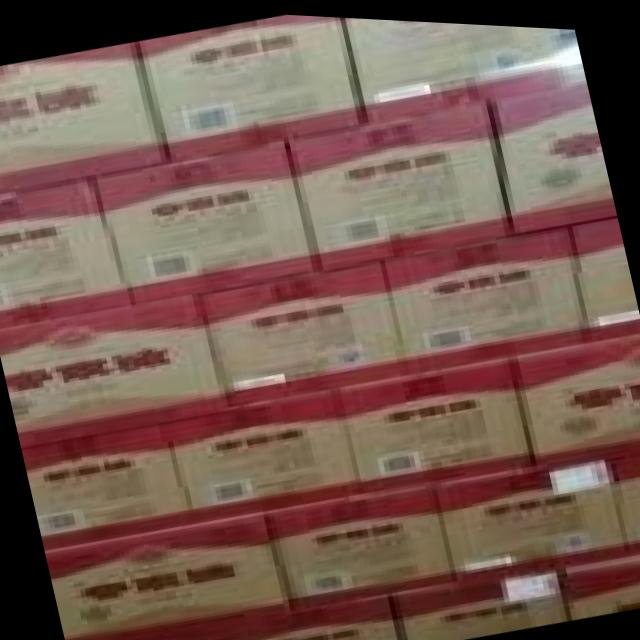box: (91, 137, 317, 304), (293, 98, 507, 271), (133, 12, 363, 160), (0, 291, 223, 443), (382, 218, 590, 372), (52, 507, 292, 640), (200, 255, 404, 406), (337, 354, 528, 493), (338, 14, 580, 121), (162, 387, 355, 519), (260, 476, 454, 605), (0, 42, 161, 191), (438, 452, 624, 577), (25, 420, 191, 549), (487, 79, 617, 230), (0, 179, 127, 325), (512, 330, 640, 461), (391, 562, 571, 640), (230, 589, 408, 640), (571, 211, 640, 337), (563, 546, 640, 611), (104, 617, 234, 640), (614, 443, 640, 545)
